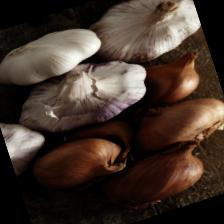onion: (21, 111, 147, 199), (94, 136, 216, 219), (123, 86, 224, 164), (116, 49, 211, 117)
